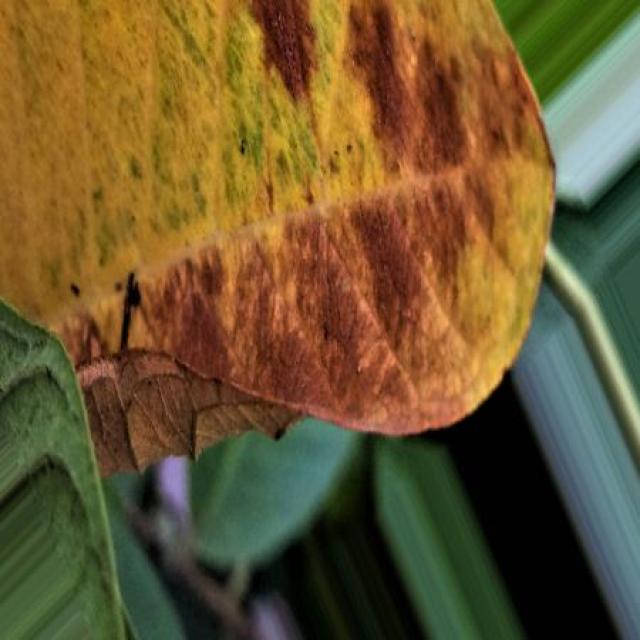Red Rust: (0, 1, 552, 474)
